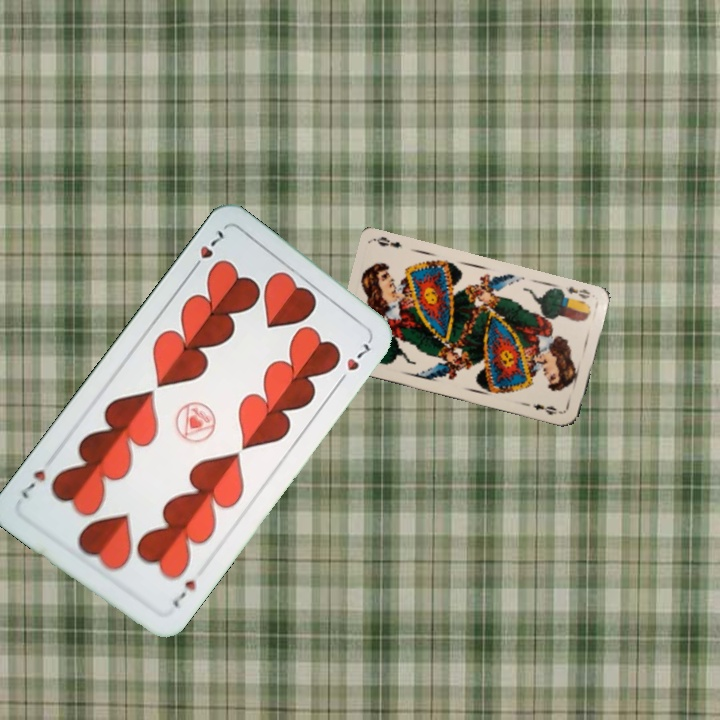EO: (561, 282, 593, 301)
H7: (186, 225, 227, 275), (166, 575, 199, 610)
